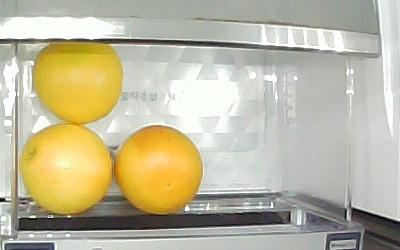grapefruit: (21, 124, 113, 214), (114, 124, 203, 214), (31, 43, 125, 123)
